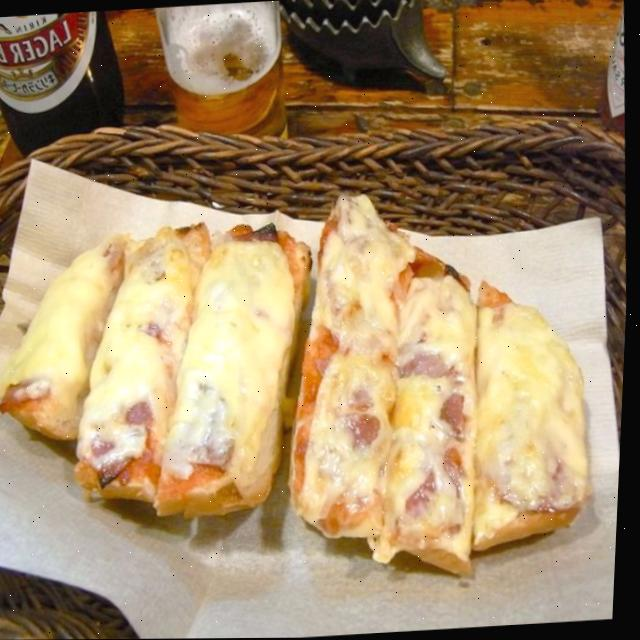面包点心: (0, 158, 622, 619)
